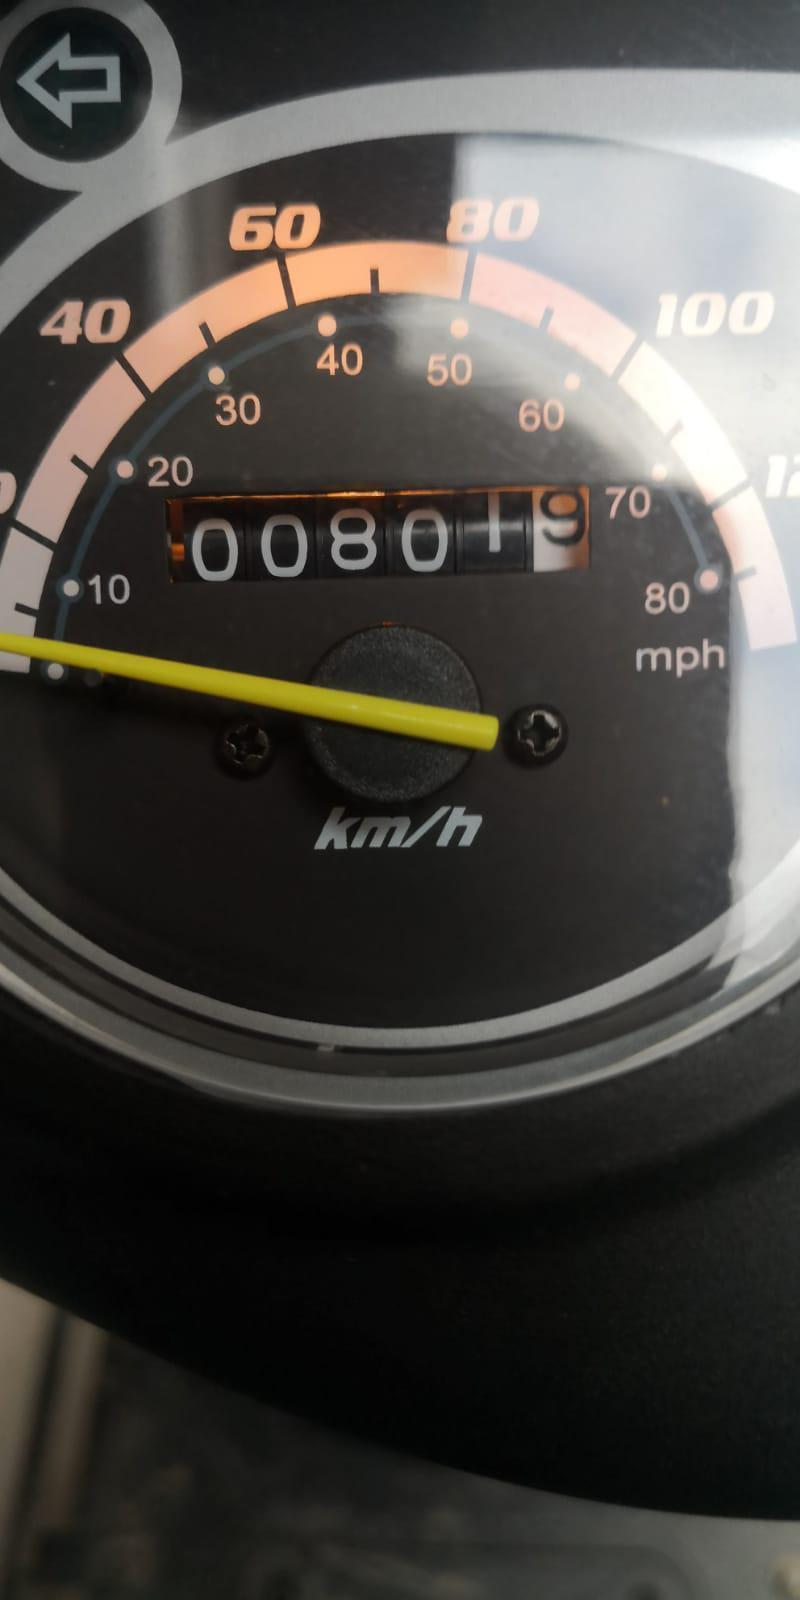0: (255, 510, 312, 582), (186, 514, 243, 583), (396, 505, 451, 576)
1: (473, 487, 513, 559)
8: (324, 503, 380, 574)
9: (535, 487, 589, 548)
odometer: (160, 481, 595, 587)
